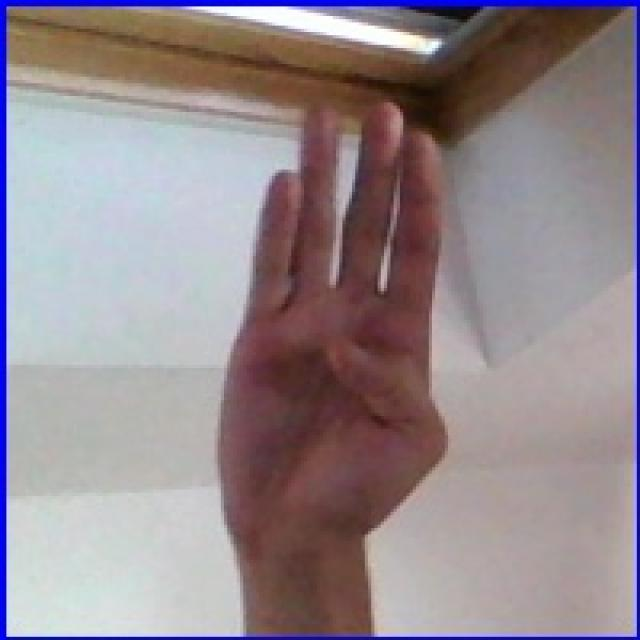Letra B: (184, 89, 480, 563)
